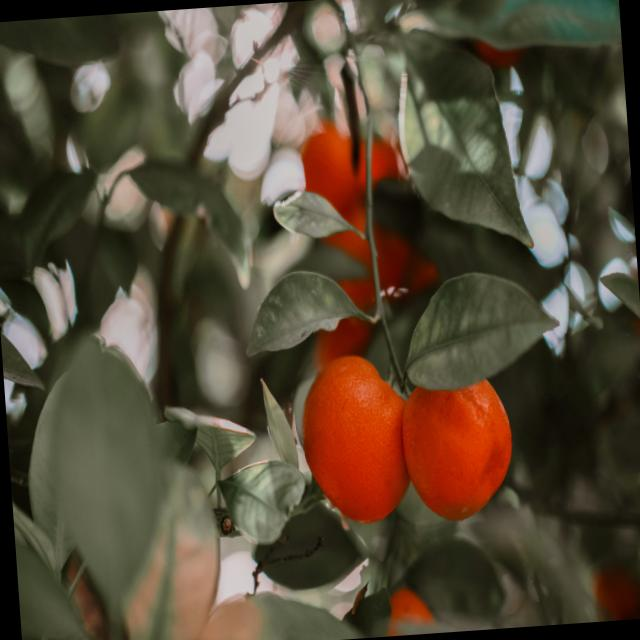laranja: (302, 354, 409, 522), (397, 377, 519, 524), (283, 116, 390, 221), (370, 140, 397, 180)
